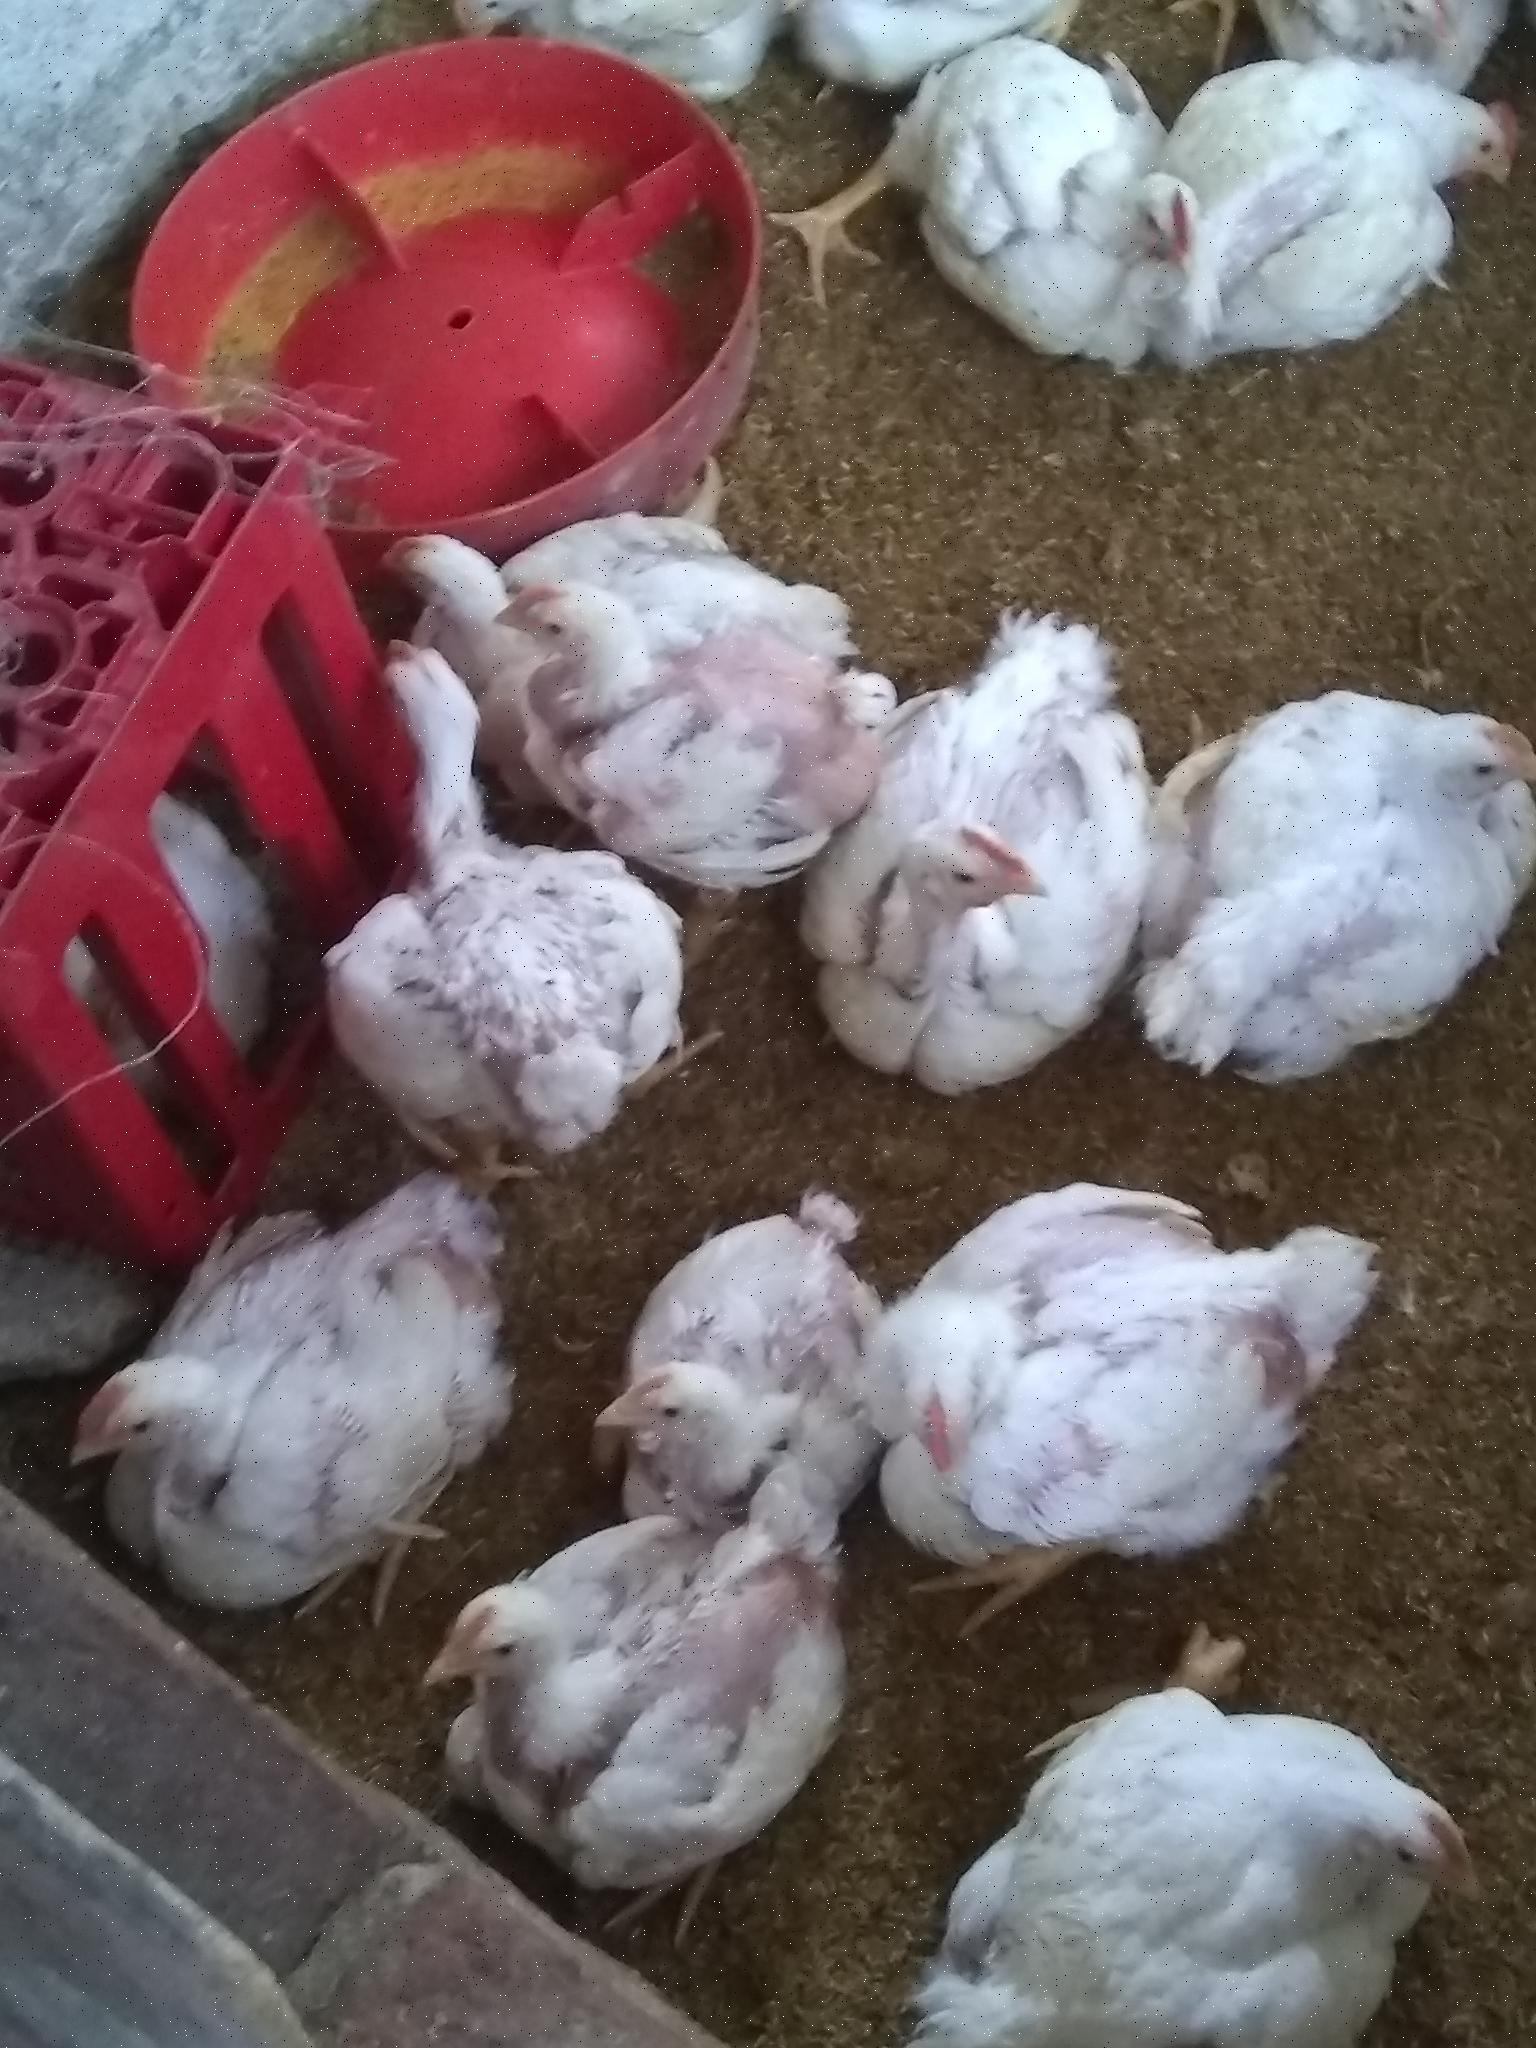Pollos: (894, 1625, 1505, 2048), (311, 634, 700, 1168), (858, 1195, 1362, 1603), (53, 1197, 511, 1627), (1163, 639, 1536, 1135), (405, 1546, 815, 1896), (828, 626, 1123, 1087), (833, 55, 1226, 387), (37, 706, 307, 1172), (513, 576, 876, 863), (1191, 60, 1523, 369), (579, 1184, 862, 1529), (453, 2, 786, 113), (334, 500, 553, 661)
